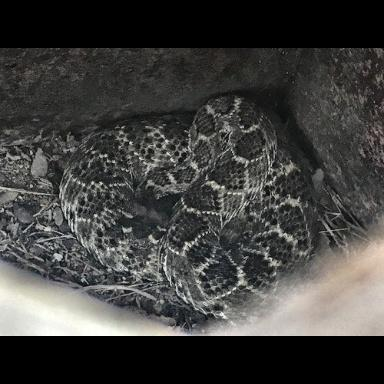snake: (58, 97, 308, 297)
